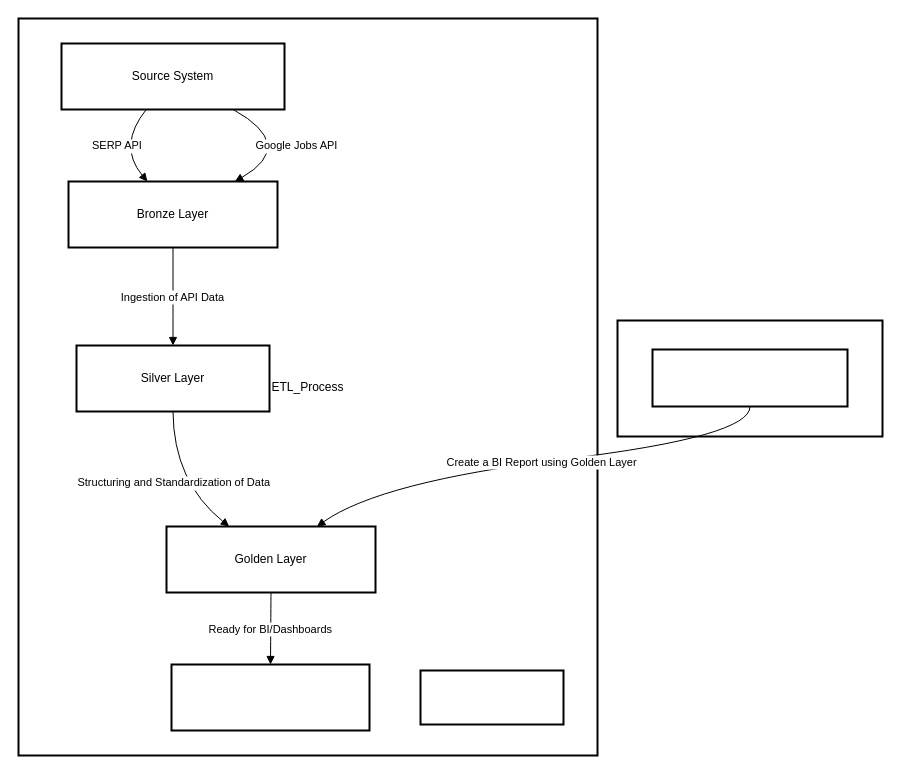
The diagram is 900 pixels wide and 773 high, and some of its shapes have lost their labels. The shapes that lost their labels are listed below. From the top down, each one's centre as x and y in pixels, then its label:
(x=749, y=377): Power BI Report
(x=270, y=697): Final Report
(x=491, y=697): ETL Process
